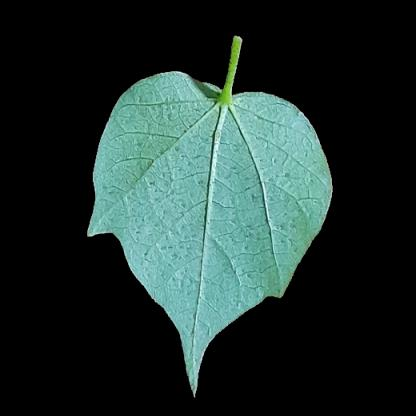healthy: (140, 106, 284, 284), (285, 142, 322, 233), (102, 139, 141, 220), (167, 284, 224, 320)
